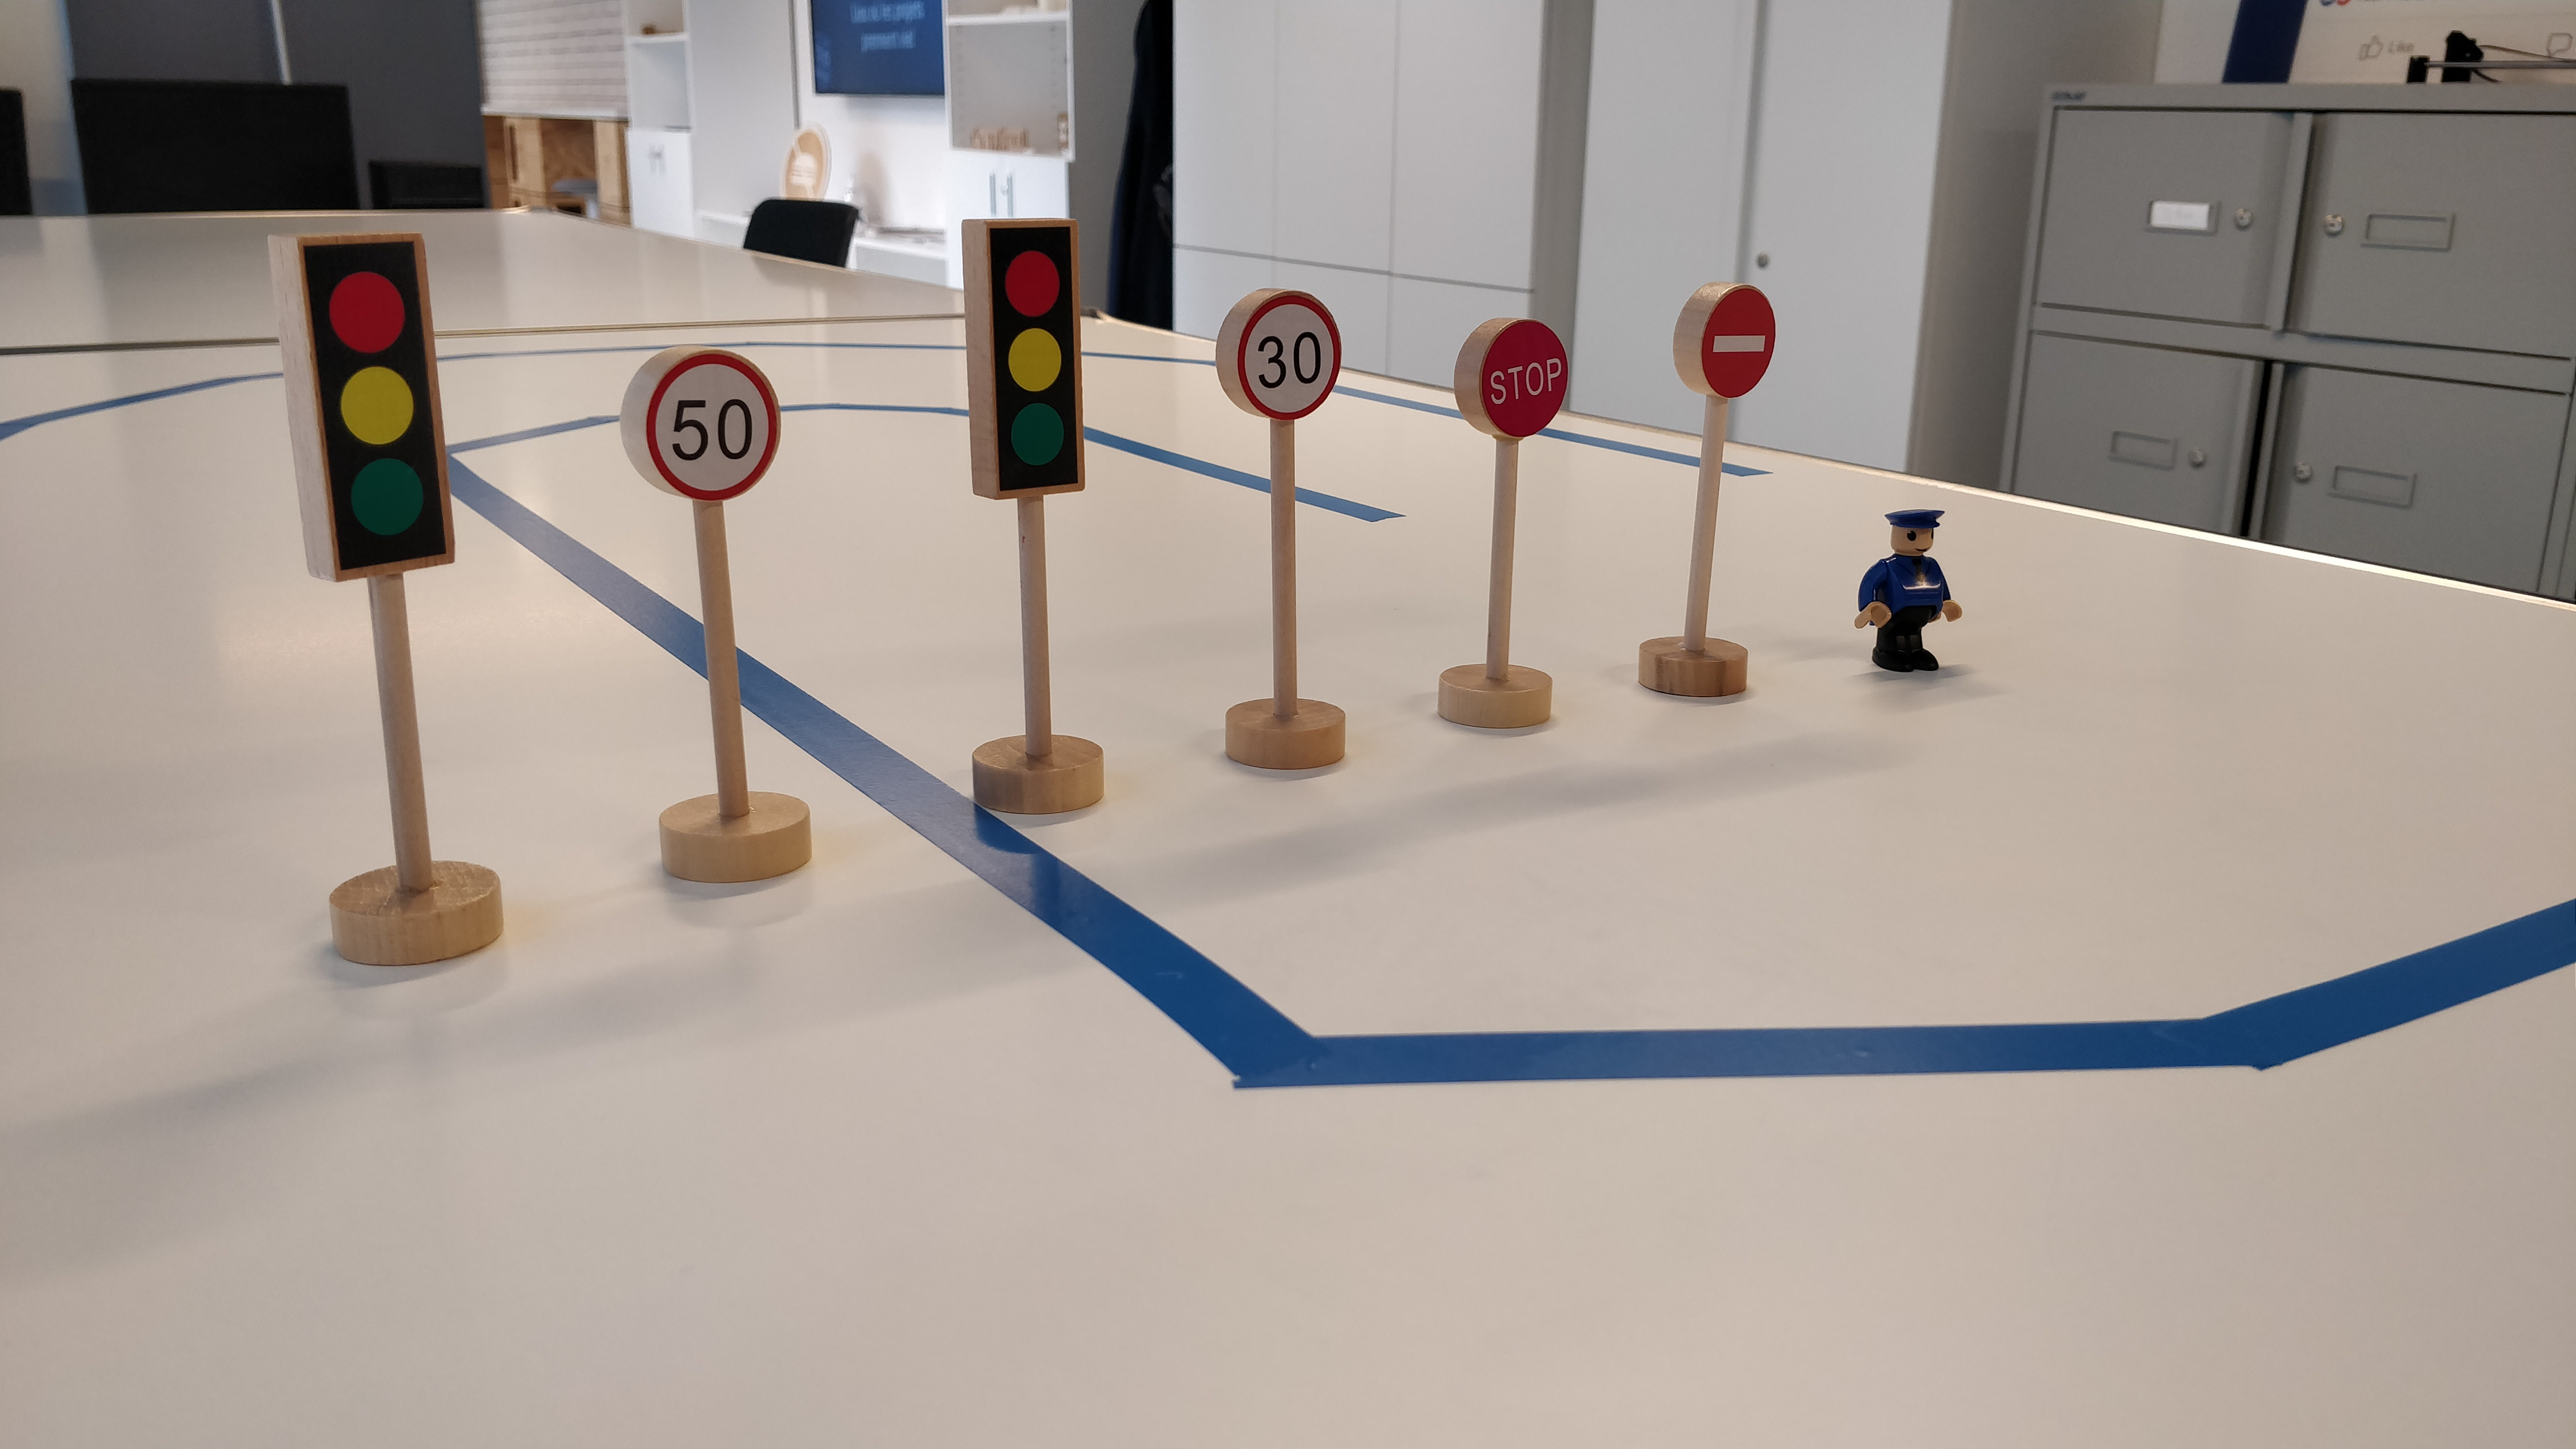Person: (1857, 505, 1966, 676)
Prohibition Sign: (1674, 282, 1773, 400)
Speed Limit 30: (1212, 289, 1341, 421)
Speed Limit 50: (615, 343, 785, 501)
Stop Sign: (1455, 315, 1571, 440)
Traffic Light: (264, 232, 459, 584), (961, 217, 1083, 498)
